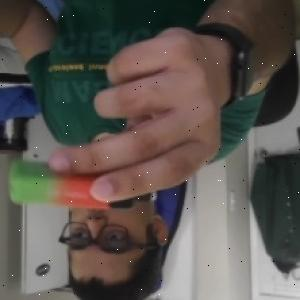Swift-E-Ciggirate: (2, 158, 166, 212)
